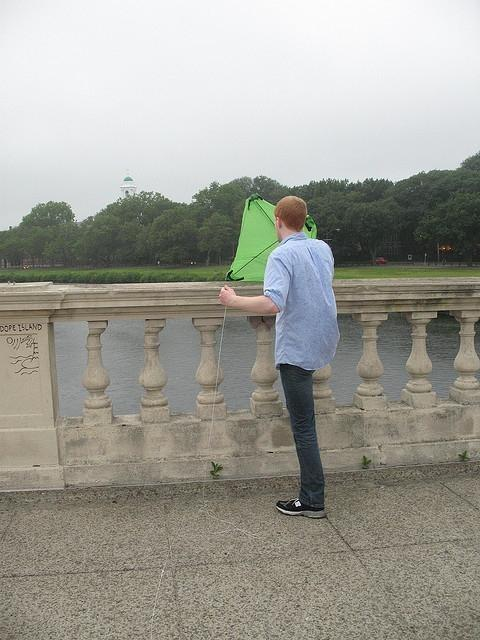car: (369, 257, 388, 265), (189, 260, 197, 264)
